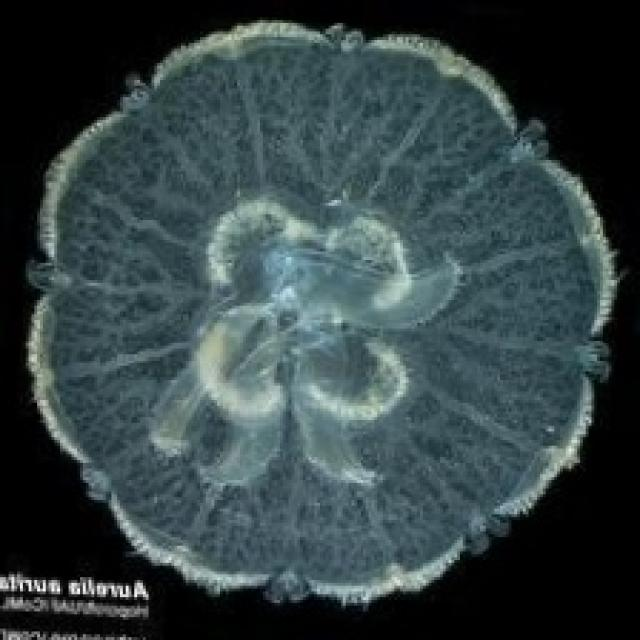Moon-jellyfish: (23, 17, 620, 606)
